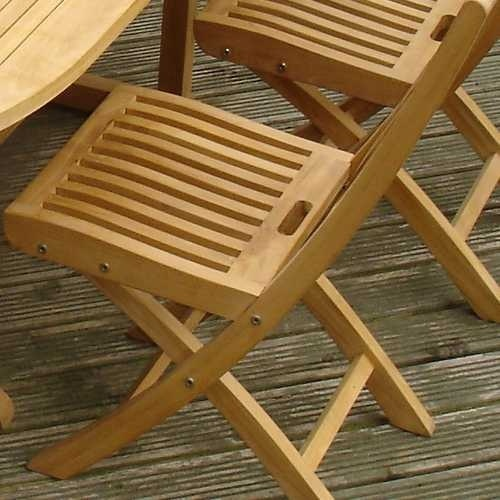obstacle: (0, 106, 285, 499), (318, 201, 499, 499), (232, 305, 346, 446), (193, 45, 306, 131), (405, 112, 482, 215), (88, 0, 160, 87)
